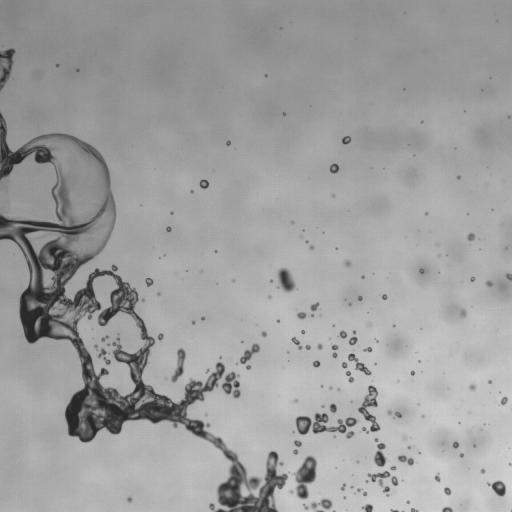droplet: (367, 471, 398, 496), (277, 268, 296, 292), (487, 480, 506, 496), (97, 348, 110, 364), (329, 163, 338, 173), (199, 179, 209, 188), (362, 504, 373, 511), (342, 136, 351, 144), (310, 303, 319, 311), (329, 403, 337, 412), (145, 278, 153, 286), (338, 330, 346, 338), (297, 312, 306, 319), (467, 233, 474, 241), (500, 396, 507, 404), (444, 487, 451, 495), (344, 260, 351, 267), (313, 360, 320, 367), (460, 309, 466, 317), (157, 333, 163, 340), (469, 384, 475, 391), (506, 273, 511, 281), (435, 473, 440, 481), (486, 280, 492, 286), (453, 441, 458, 448), (364, 347, 372, 351), (381, 294, 387, 299), (261, 331, 266, 337), (317, 343, 322, 349), (395, 412, 401, 417), (390, 465, 396, 470), (166, 226, 171, 231), (309, 245, 314, 250), (127, 497, 132, 502), (341, 484, 345, 490), (226, 140, 230, 145), (419, 268, 423, 273), (305, 345, 310, 349), (246, 365, 251, 369), (480, 469, 485, 473), (470, 277, 474, 281), (358, 296, 362, 300), (293, 398, 297, 402), (387, 410, 391, 414), (459, 453, 463, 457), (94, 345, 97, 349), (357, 488, 361, 491), (363, 491, 366, 495), (268, 295, 271, 298), (301, 330, 304, 333), (206, 369, 209, 372), (411, 371, 414, 374), (488, 380, 491, 383), (457, 176, 460, 178), (190, 190, 193, 192), (332, 194, 334, 197), (201, 317, 204, 319), (192, 321, 195, 323), (402, 437, 405, 439), (509, 463, 511, 466), (407, 500, 409, 503), (425, 212, 427, 214), (270, 279, 272, 281), (158, 293, 160, 295), (142, 299, 144, 301), (348, 303, 350, 305), (311, 314, 313, 316), (375, 339, 377, 341)
ligament: (0, 113, 288, 511), (295, 413, 357, 438), (289, 455, 316, 499), (358, 385, 380, 433), (0, 48, 15, 91), (348, 353, 371, 375), (171, 348, 185, 382), (240, 343, 259, 364), (303, 498, 332, 511), (374, 438, 386, 466), (342, 362, 353, 382), (398, 455, 413, 465), (349, 330, 357, 345), (291, 337, 301, 349), (293, 440, 301, 454), (331, 344, 338, 357), (442, 506, 453, 511), (101, 335, 108, 341), (411, 508, 418, 511), (391, 509, 398, 511)
